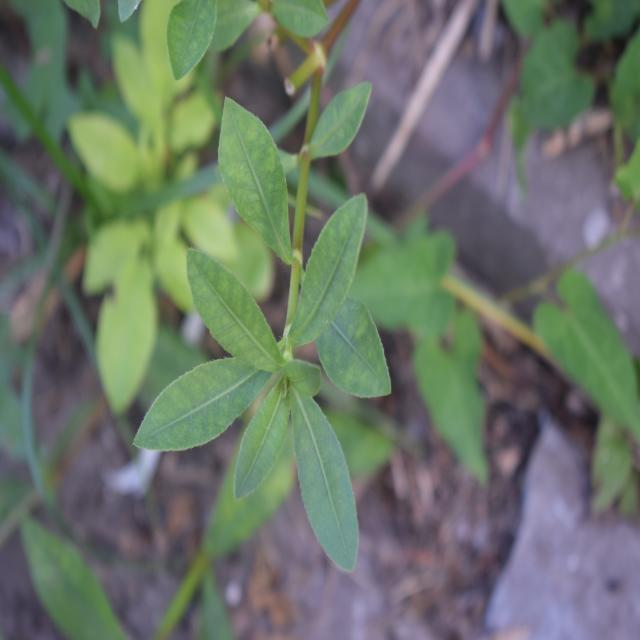Alligatorweed: (140, 57, 434, 560)
